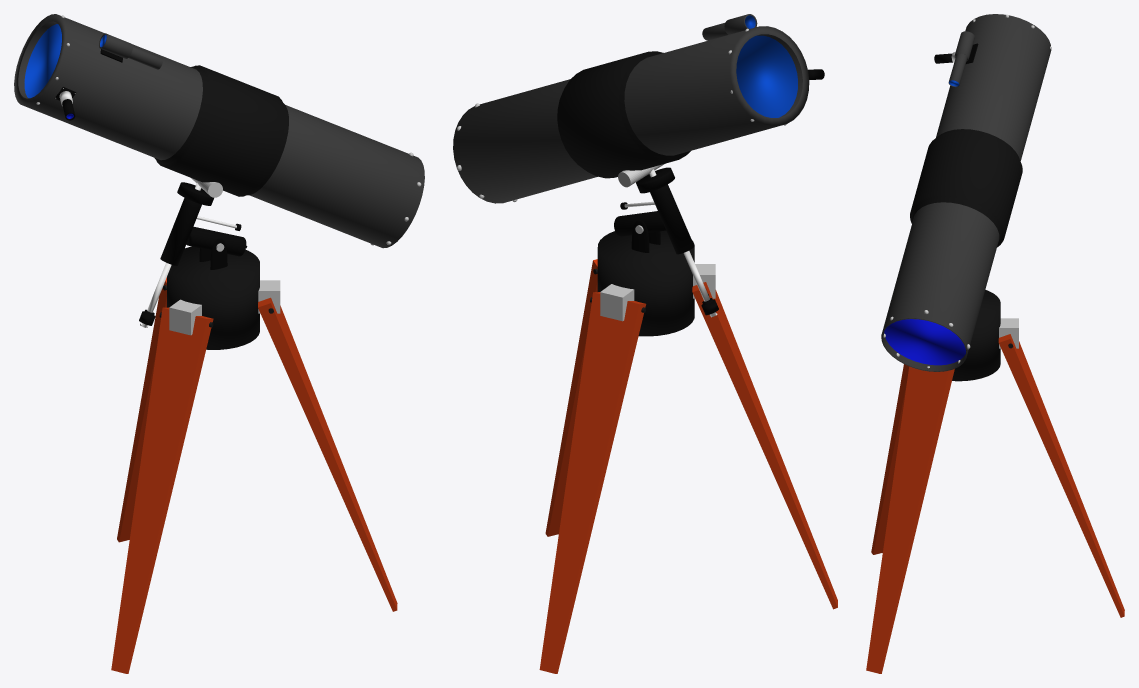
File: Newtonian_telescope1 - Copy.obj
3 views of the same model, side by side, from view 1: azimuth 30°, elevation 25°; view 2: azimuth 150°, elevation 25°; view 3: azimuth 270°, elevation 25° (orthographic). The views are drawn at different scales.
Parts seen in each view (by area): view 1: Cylinder.003, Cube.010, Cylinder.015; view 2: Cylinder.003, Cube.010, Cylinder.015, Cube.013; view 3: Cylinder.003, Cube.010, Cylinder.015.
Part boxes in pixels (bbox=[...]): Cylinder.003: bbox=[14, 14, 424, 327]; Cube.010: bbox=[111, 277, 397, 673]; Cylinder.015: bbox=[167, 246, 259, 349]; Cylinder.003: bbox=[453, 14, 824, 317]; Cube.010: bbox=[539, 259, 837, 673]; Cylinder.015: bbox=[597, 230, 694, 336]; Cube.013: bbox=[631, 220, 660, 252]; Cylinder.003: bbox=[881, 14, 1051, 371]; Cube.010: bbox=[866, 318, 1124, 673]; Cylinder.015: bbox=[952, 290, 1000, 381].
Bounding box in the file's own units: 10.73 × 17.3 × 7.46.
